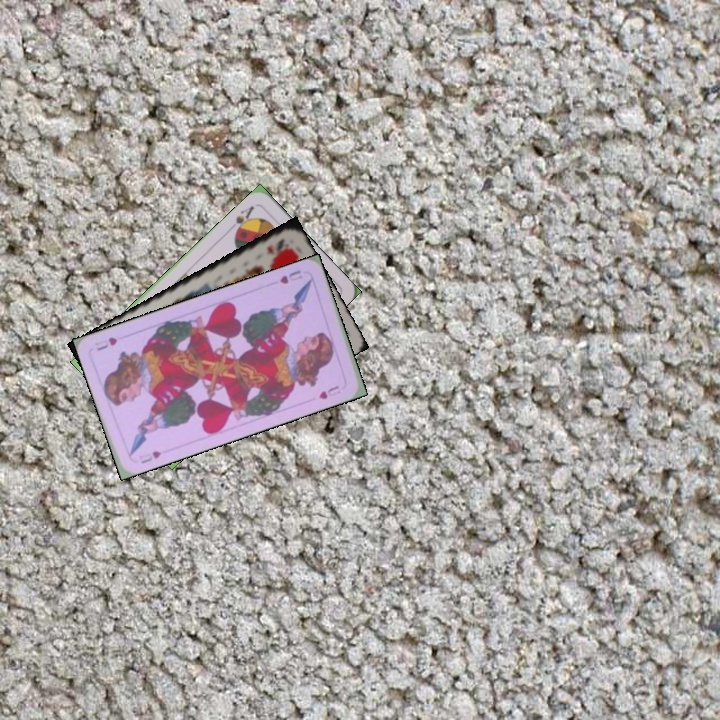HK: (262, 235, 287, 255)
HU: (276, 266, 305, 287), (137, 447, 164, 466)
SA: (225, 201, 257, 237)
